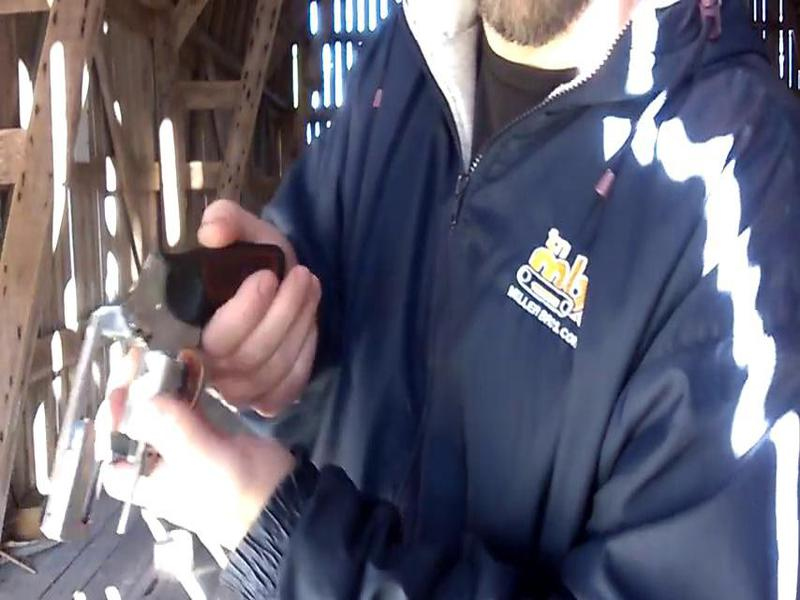Revolver: (51, 226, 290, 552)
